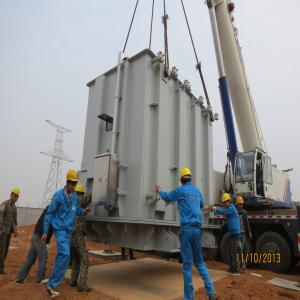yellow: (66, 171, 79, 194), (180, 169, 195, 188), (11, 187, 21, 204), (75, 186, 87, 200), (223, 193, 233, 208), (237, 197, 245, 212)
